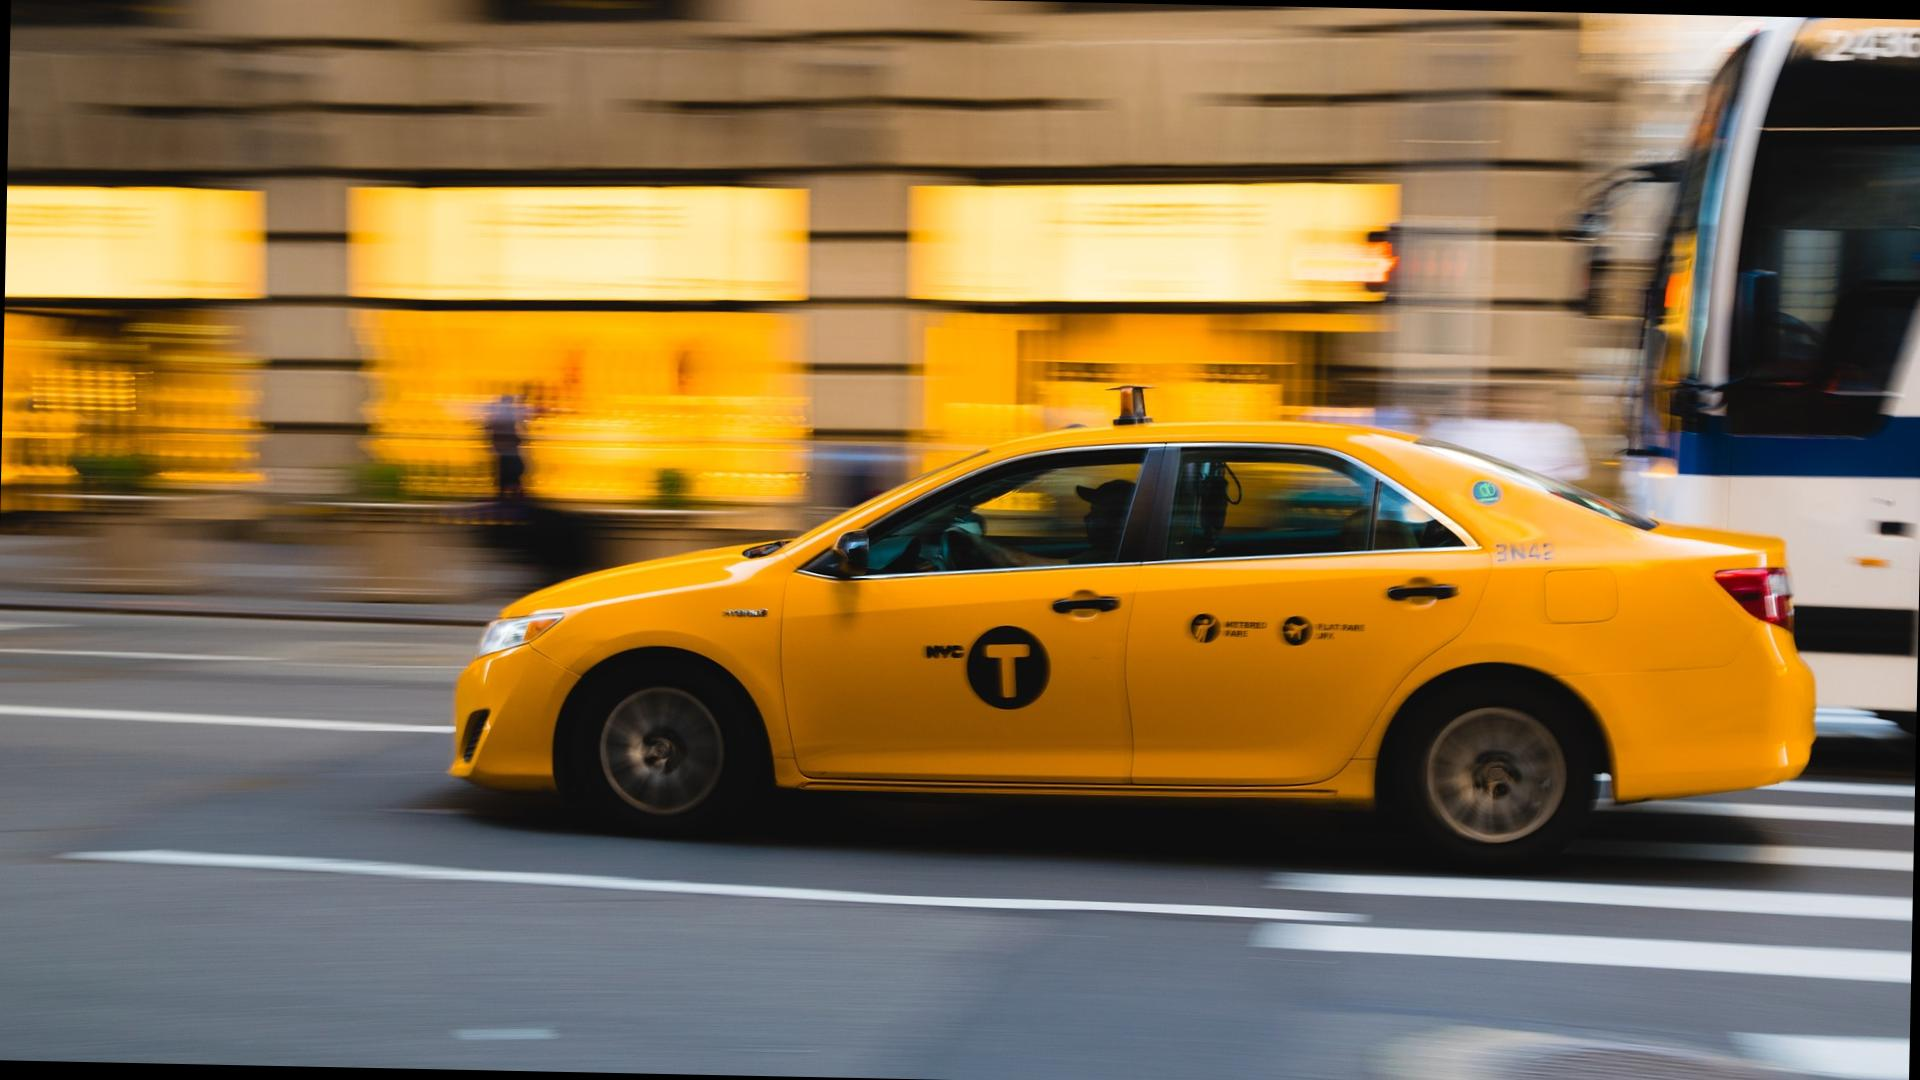taxi: (429, 400, 1820, 885)
